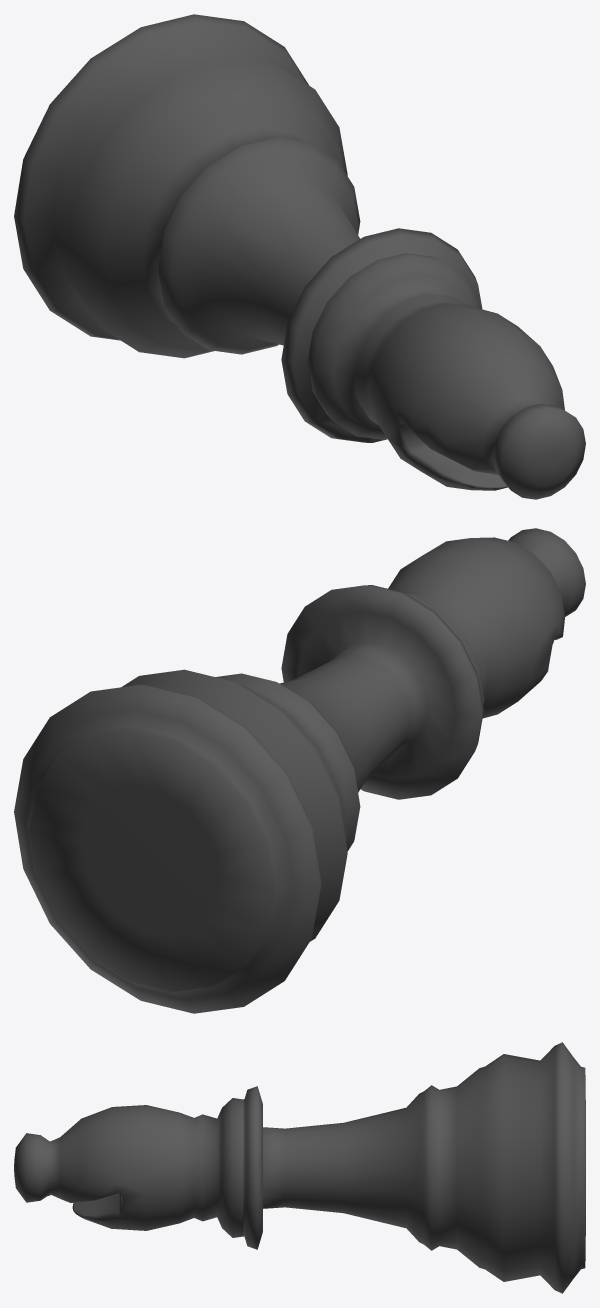
The model's file is BBishop.obj.
3 renders of one model, top to bottom at view 1: azimuth 30°, elevation 25°; view 2: azimuth 150°, elevation 25°; view 3: azimuth 270°, elevation 25°, orthographic. The views are drawn at different scales.
Parts seen in each view (by area): view 1: 12395_Wooden_Chess_Bishop_Side_B_V2_l3; view 2: 12395_Wooden_Chess_Bishop_Side_B_V2_l3; view 3: 12395_Wooden_Chess_Bishop_Side_B_V2_l3.
Part boxes in pixels (x1=…): 12395_Wooden_Chess_Bishop_Side_B_V2_l3: x1=14, y1=14, x2=585, y2=499; 12395_Wooden_Chess_Bishop_Side_B_V2_l3: x1=14, y1=528, x2=585, y2=1013; 12395_Wooden_Chess_Bishop_Side_B_V2_l3: x1=14, y1=1042, x2=585, y2=1293.
Bounding box in the file's own units: 1.16 × 1.14 × 2.62.
Materials: 1 (1 with a texture image).
